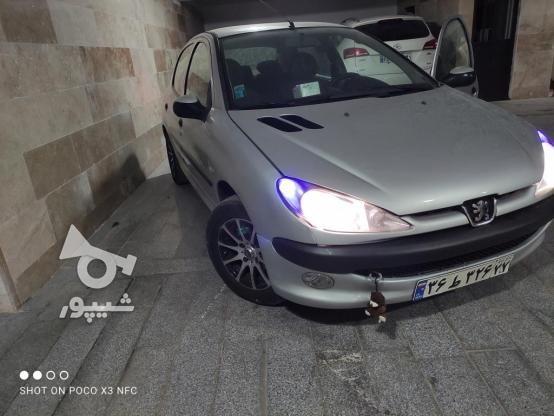car: (412, 253, 513, 310)
